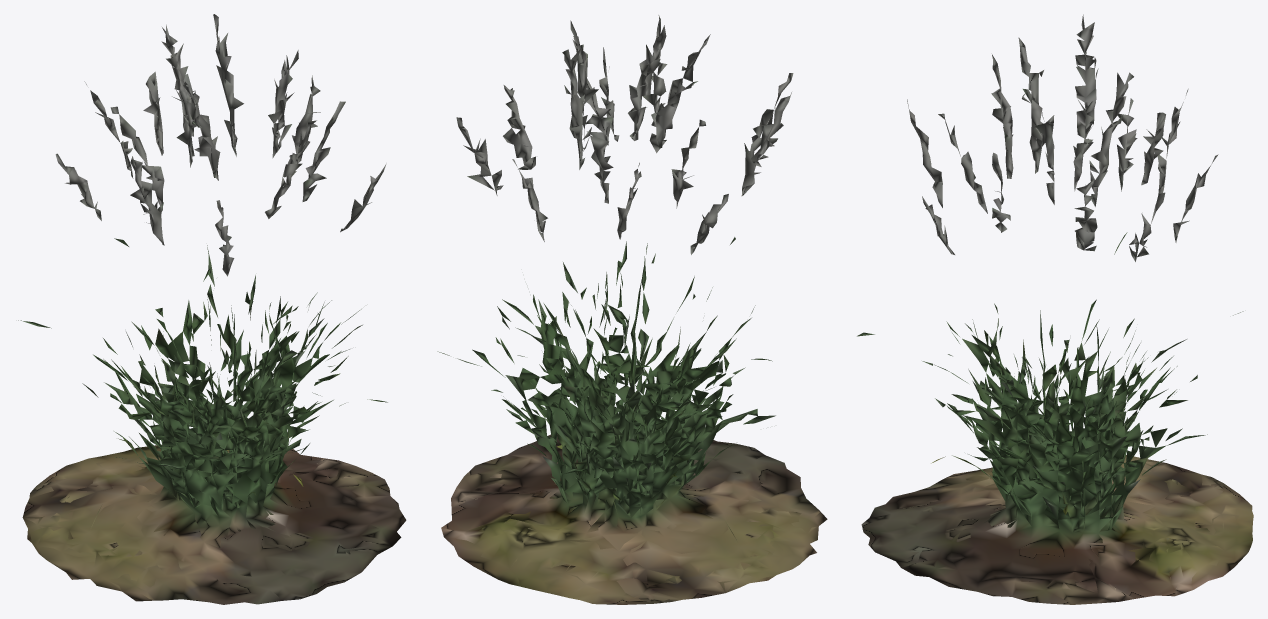
File: grass_b.1.glb
3 views of the same model, side by side, from view 1: azimuth 30°, elevation 25°; view 2: azimuth 150°, elevation 25°; view 3: azimuth 270°, elevation 25° (orthographic). The views are drawn at different scales.
Parts seen in each view (by area): view 1: lod; view 2: lod; view 3: lod.
Part boxes in pixels (bbox=[...]): lod: bbox=[18, 14, 406, 604]; lod: bbox=[437, 15, 827, 604]; lod: bbox=[857, 14, 1253, 604].
Size of the model in its own units: 0.6162 by 0.8772 by 0.6246.
